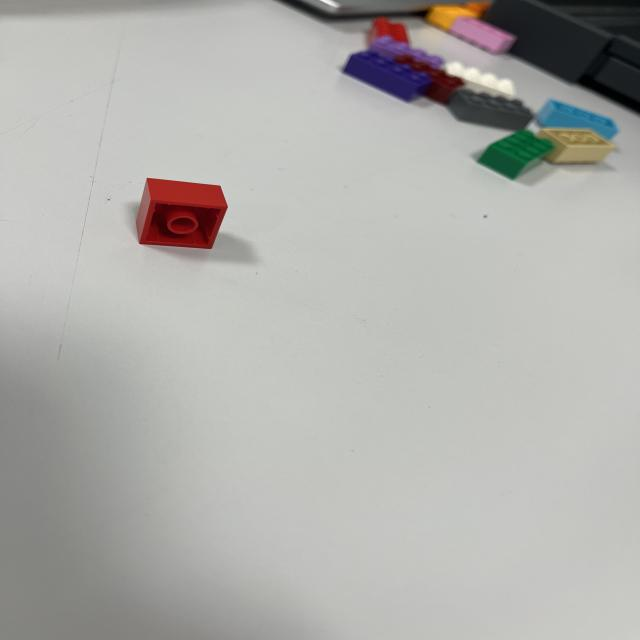C2x2x1: (132, 175, 230, 253)
